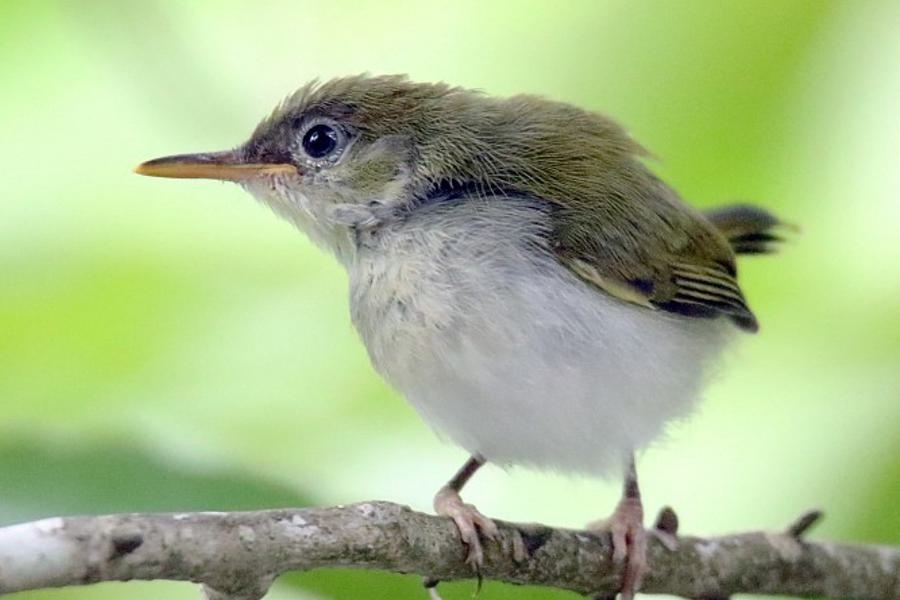tailorbird: (155, 63, 771, 539)
